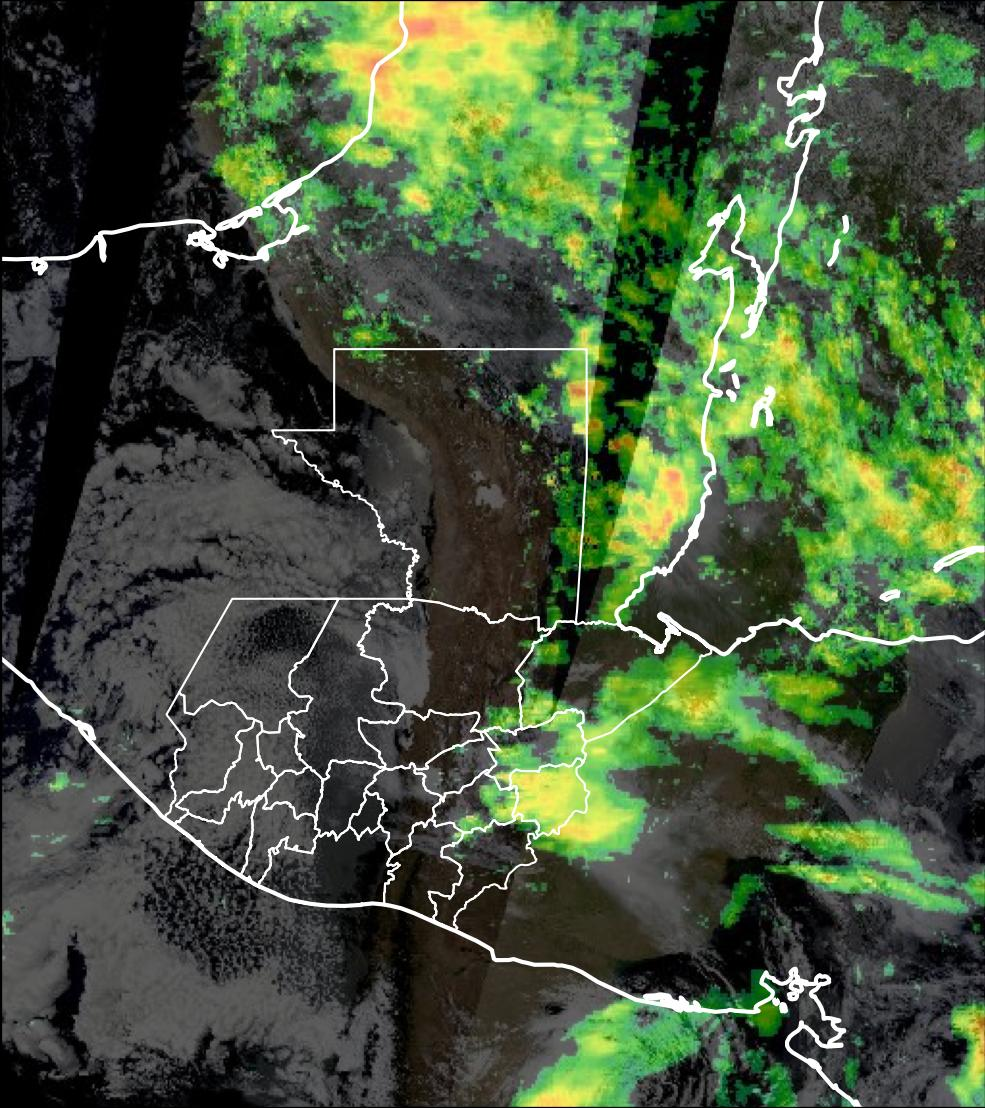precipitacion: (387, 1, 504, 66), (630, 462, 682, 549)
